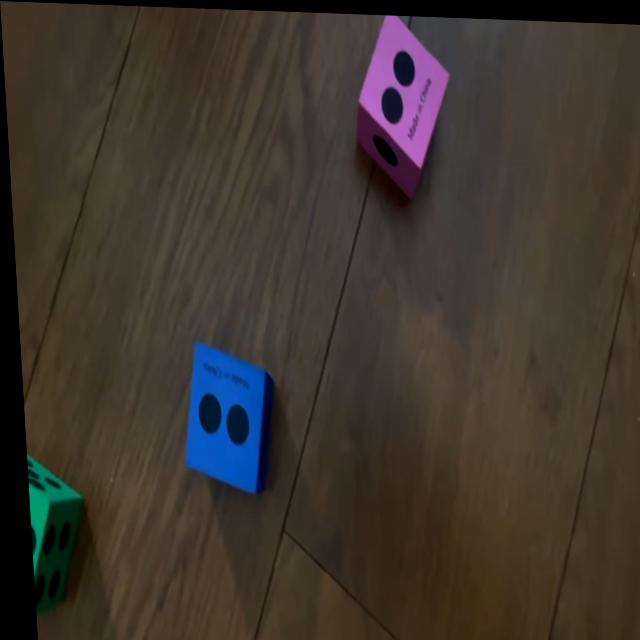cube: (177, 338, 276, 492), (21, 455, 84, 604)
